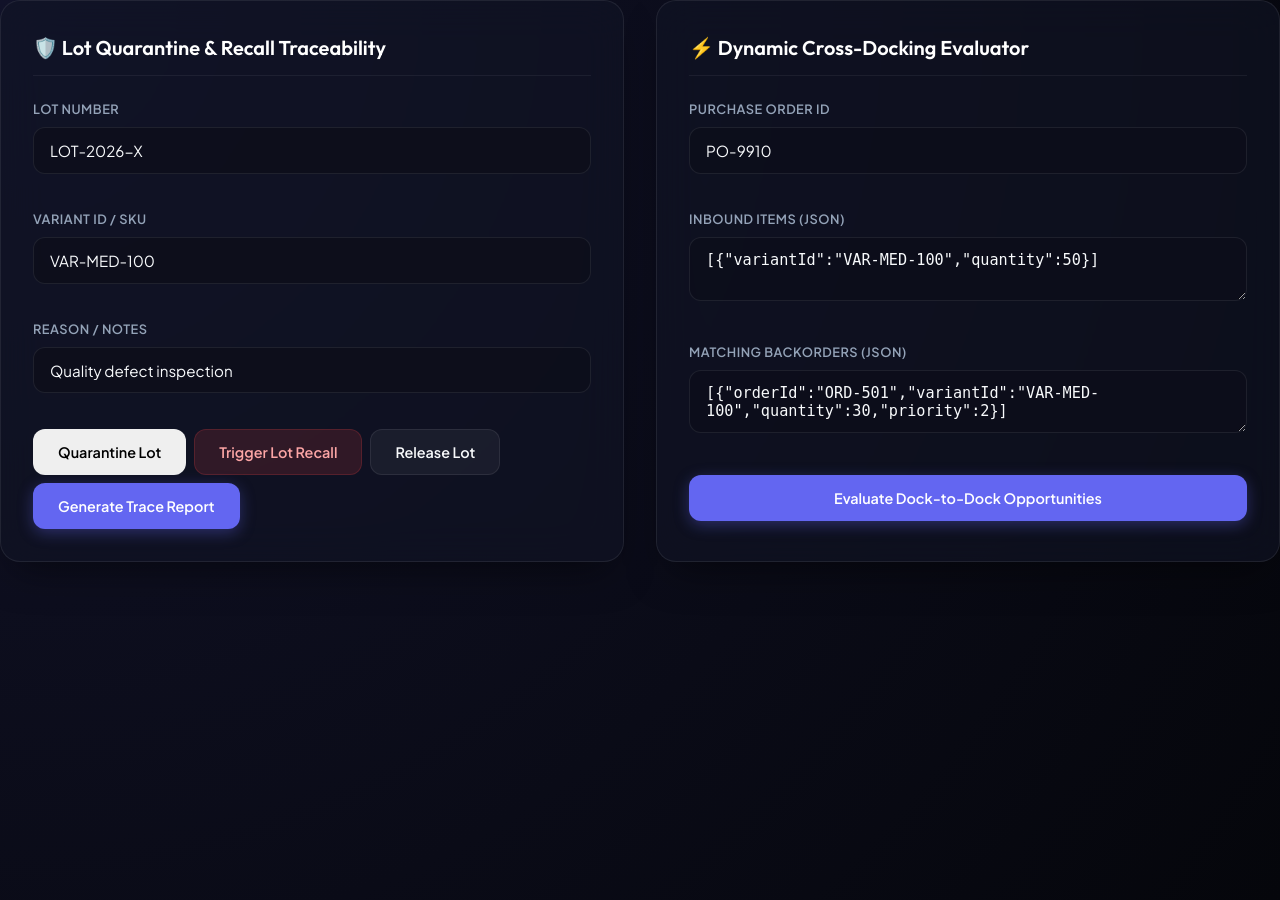
Scenario: LotManagementPanel › handles release action successfully
The image size is (1280, 900).
Click the button "Release Lot": coordinates (435, 452) [370,429,500,475]
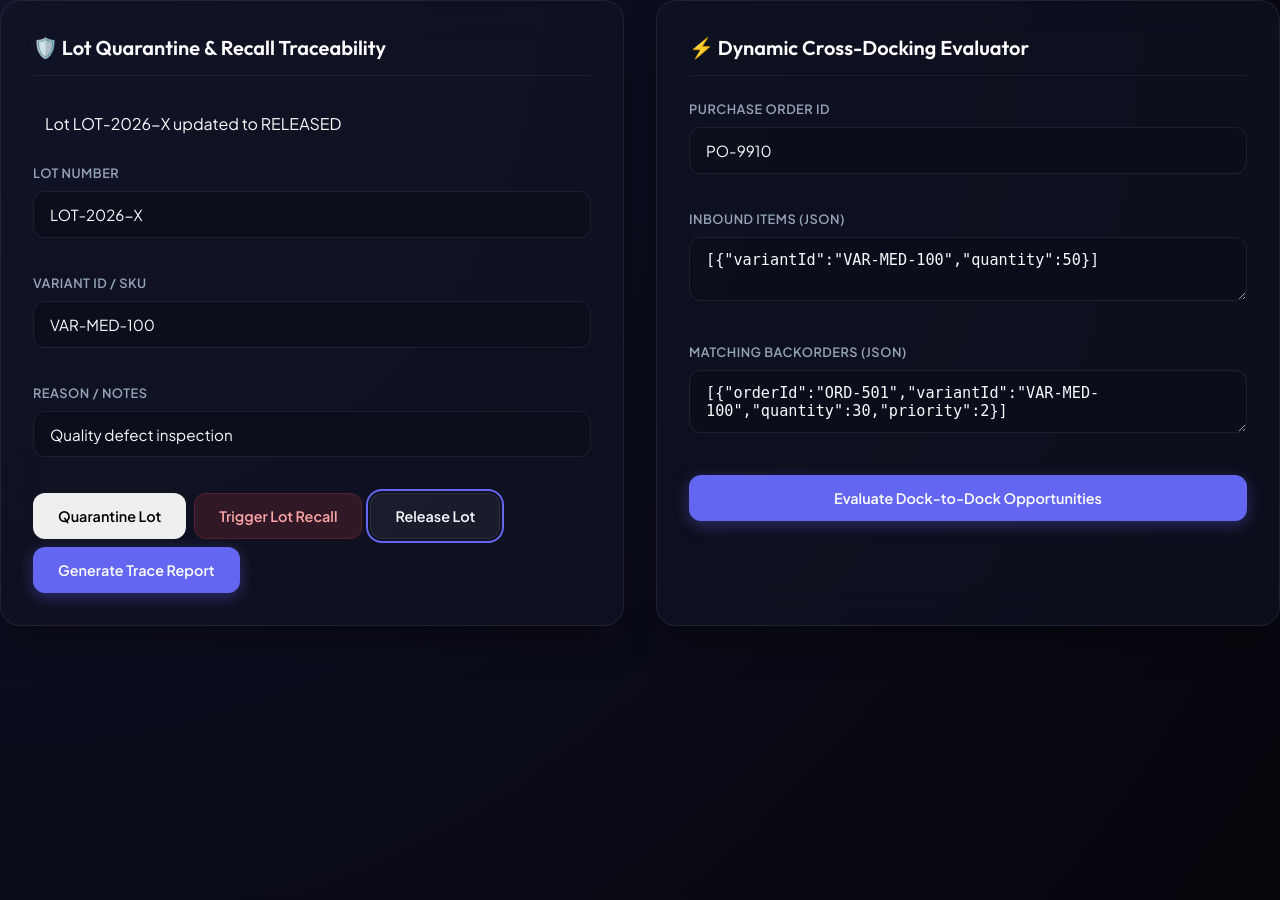
Check: the text "Lot LOT-2026-X updated to RELEASED" is shown, box [45,113,341,134]
